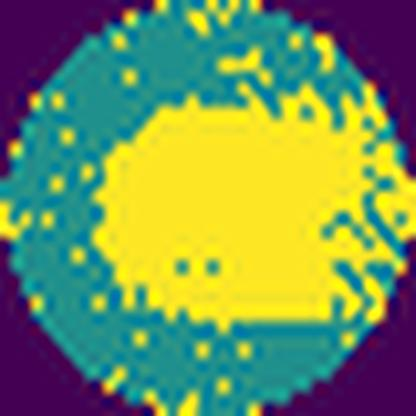Loc: (93, 74, 390, 318)
